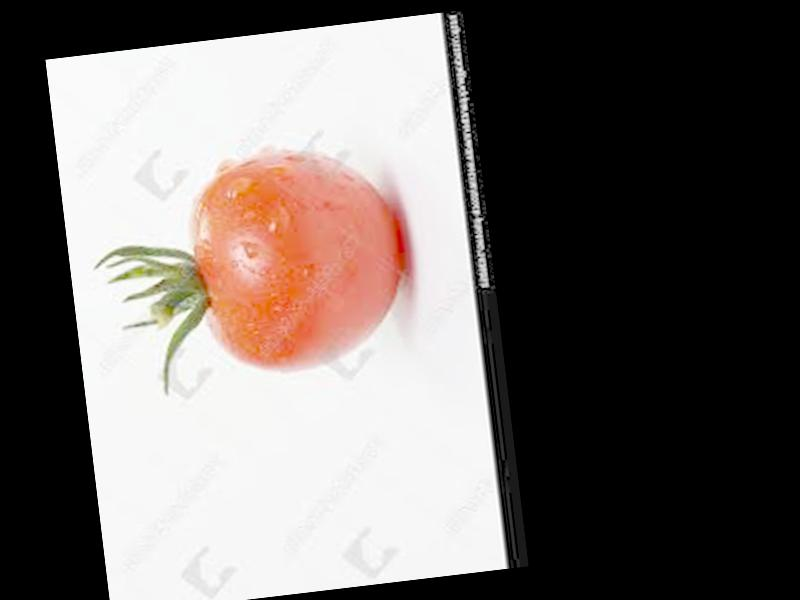Tomato: (184, 143, 416, 381)
